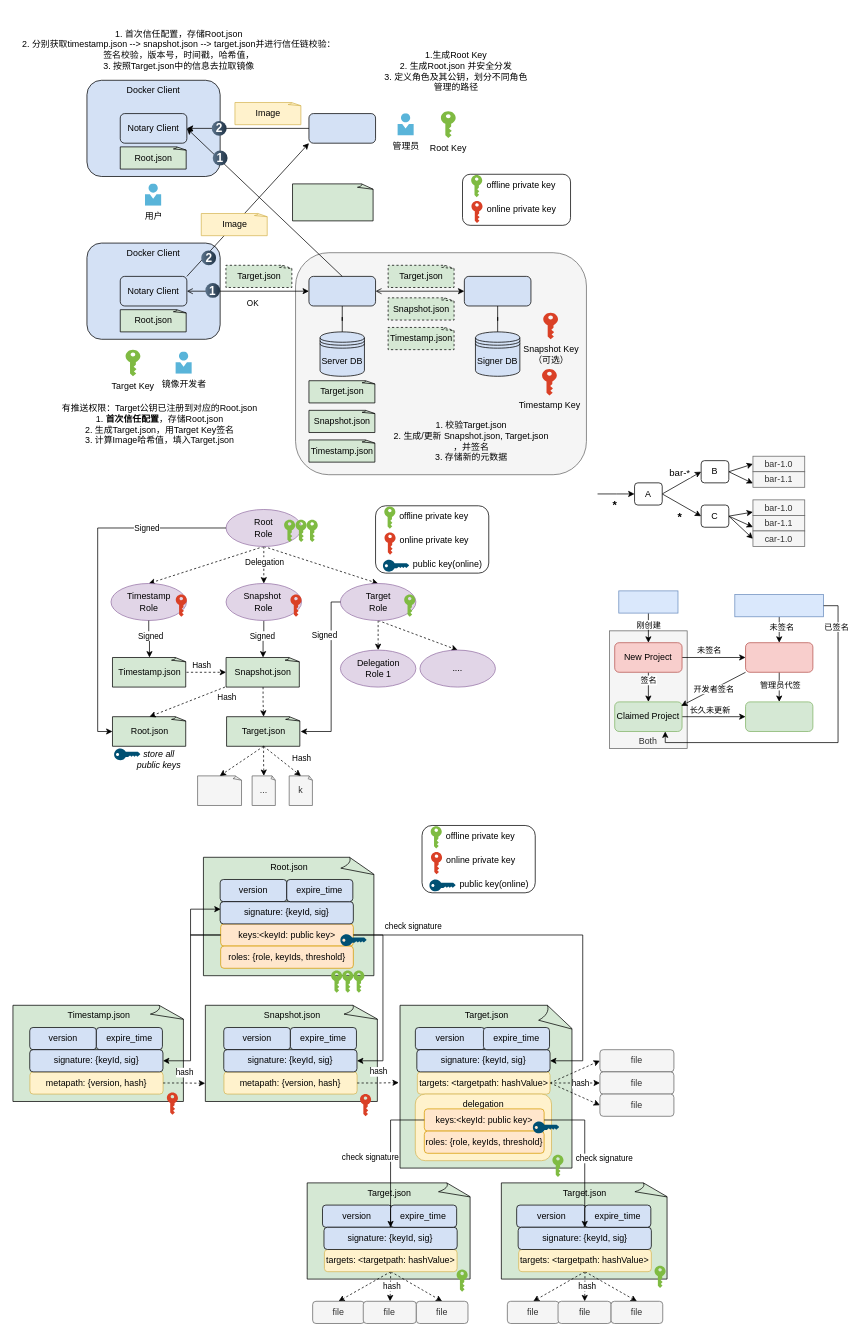
This 861x1336 diagram has some shape labels left out. Each missing label, with the centre of its shape:
File 1: pixel 219 790
Image Hub: pixel 342 128
Notary Server: pixel 342 291
Rarely Update Project(MSM): pixel 779 716
Signer: pixel 497 291
Target.json Snapshot.json Timestamp.json: pixel 333 202
UnClaimed Project(LSM): pixel 779 657
新镜像: pixel 648 601
构建TUF前 仓库原有镜像: pixel 779 605
